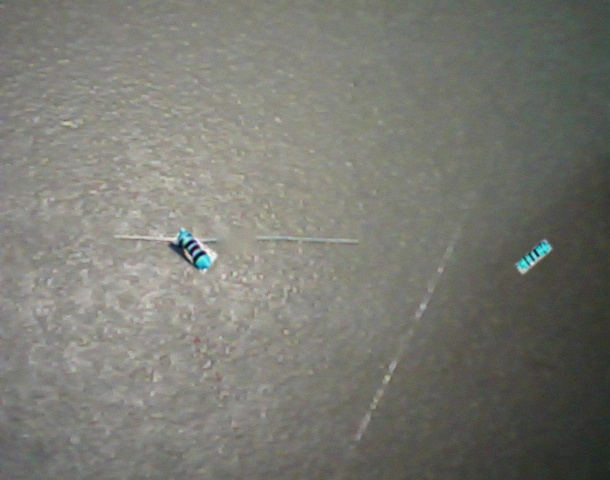resistor: (168, 228, 218, 274), (515, 239, 553, 274)
